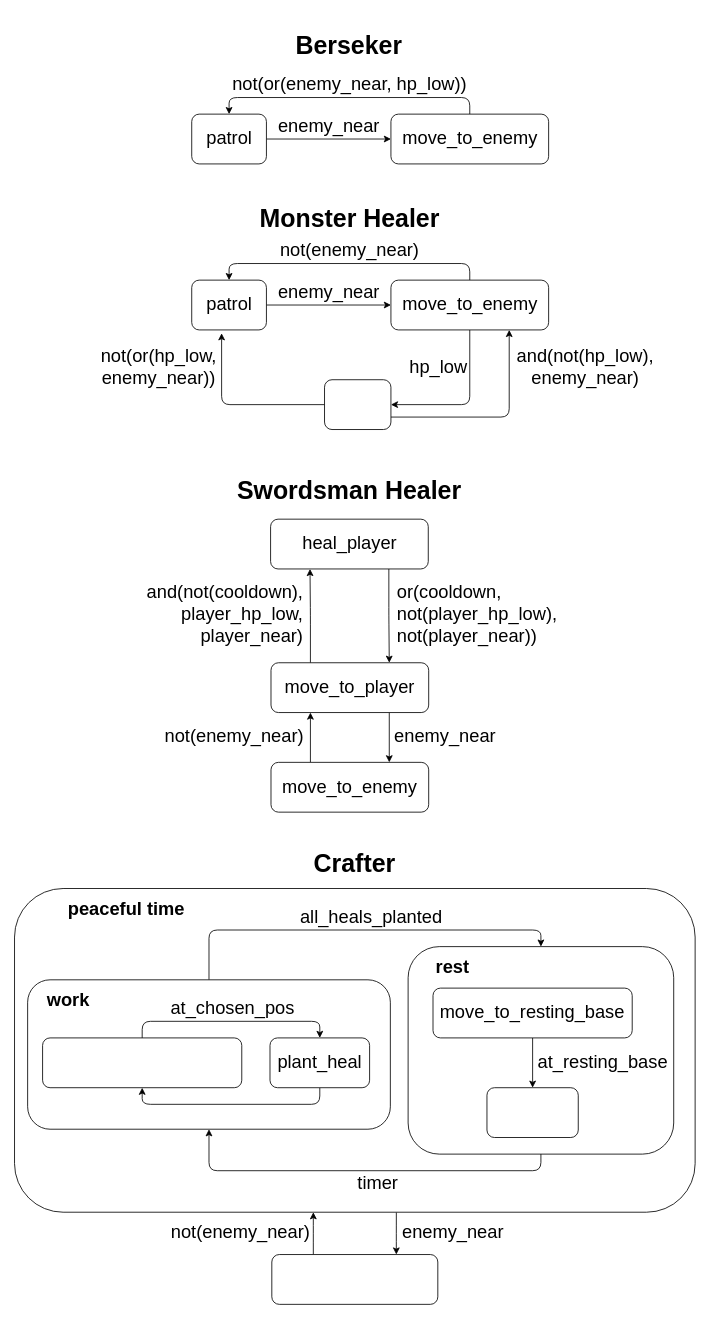
This 710x1319 diagram has some shape labels left out. The shapes that lost their labels are listed below. From the top down, each one's centre as x and y in pixels, then its label:
At (357,404): "heal".
At (142,1062): "move_to_chosen_pos".
At (532,1112): "sleeping".
At (354,1279): "flee_from_enemy".
